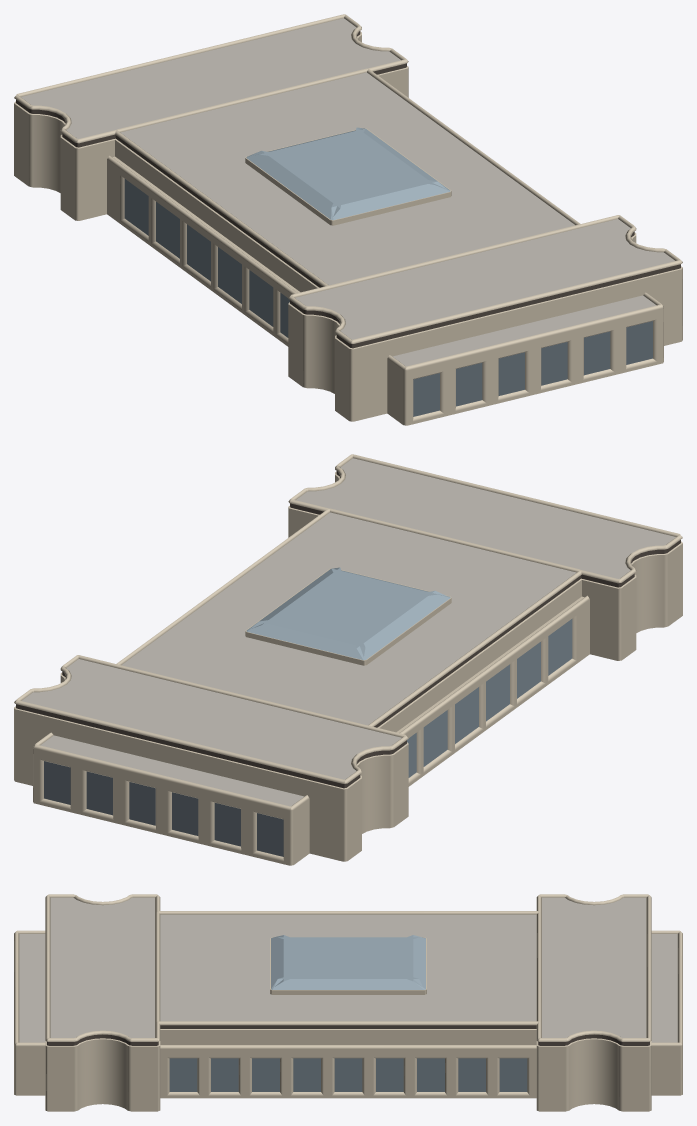
The model's file is queens-museum.glb.
3 renders of one model, top to bottom at view 1: azimuth 30°, elevation 25°; view 2: azimuth 150°, elevation 25°; view 3: azimuth 270°, elevation 25°, orthographic. The views are drawn at different scales.
Visible parts, largest first — view 1: Queens Museum; view 2: Queens Museum; view 3: Queens Museum.
Boxes of the visible parts, left/top/right/bottom form: Queens Museum: left=14, top=14, right=682, bottom=425; Queens Museum: left=14, top=454, right=682, bottom=865; Queens Museum: left=14, top=894, right=682, bottom=1111.
Bounding box in the file's own units: 66 × 17 × 128.
